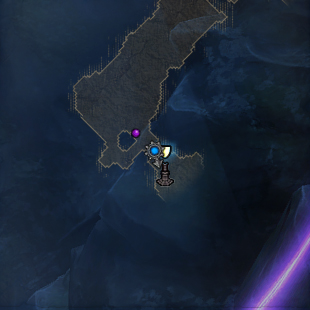ShieldPylon: (154, 145, 175, 187)
